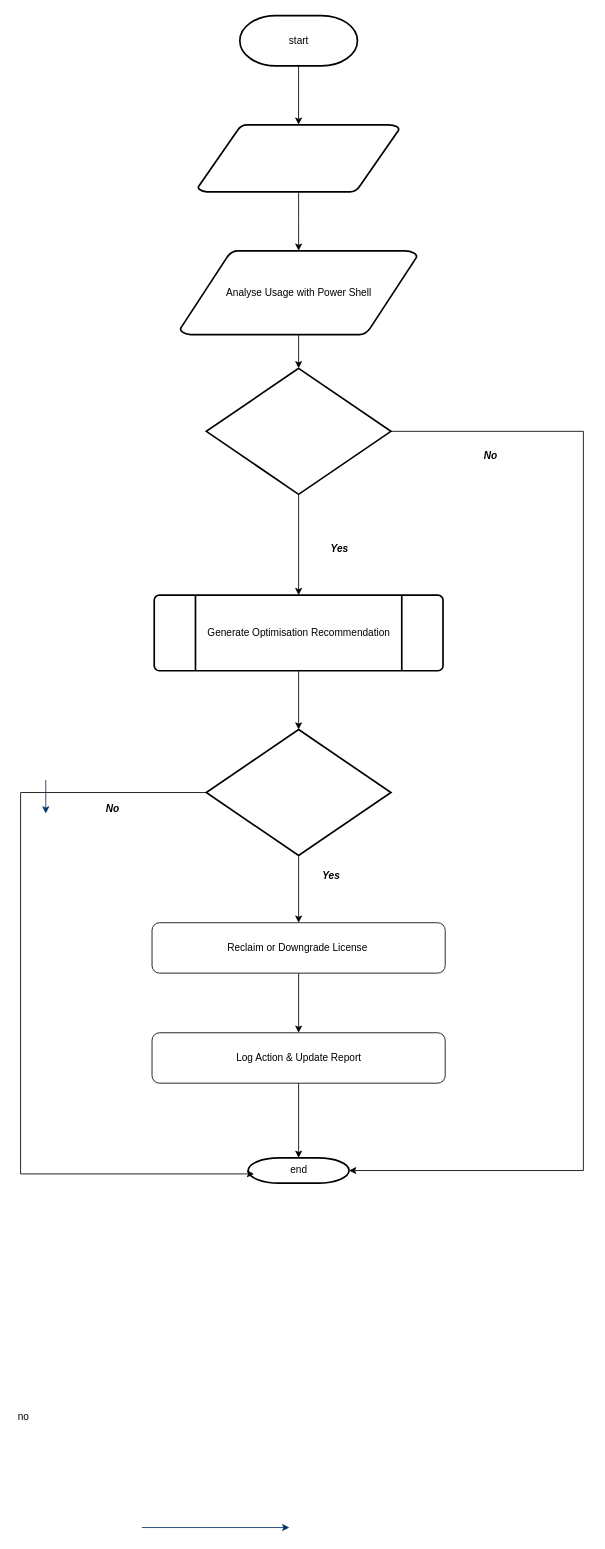
This 605x1549 diagram has some shape labels left out. The shapes that lost their labels are listed below. From the top down, each one's centre as x and y in pixels, then its label:
At point (298, 157): "Collect License & Usage Data".
At point (298, 431): "License Unused or Underutilised?".
At point (298, 792): "Approval Received ?".
